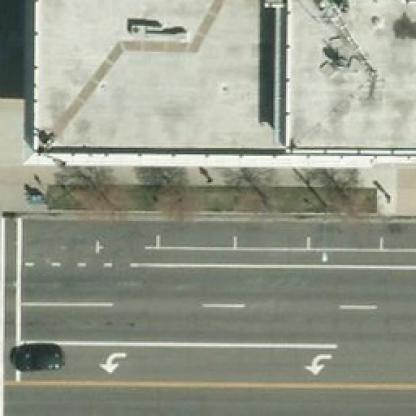car: (10, 336, 62, 368)
